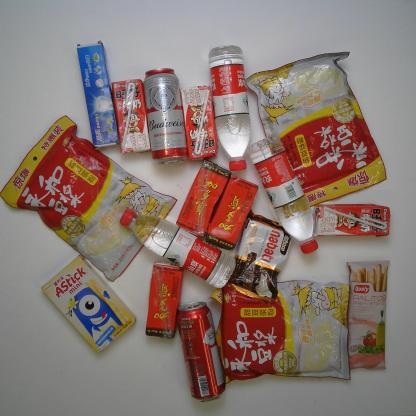Alcohol: (175, 300, 227, 402), (142, 66, 188, 165)
Dessert: (41, 255, 136, 355), (227, 209, 293, 304), (344, 258, 390, 370)
Drink: (119, 208, 236, 290), (248, 135, 321, 254), (208, 46, 252, 172), (175, 158, 232, 238), (204, 175, 260, 251), (144, 262, 184, 339)
Instant Drink: (0, 115, 178, 284), (245, 52, 388, 207), (208, 276, 353, 383)
Milk: (110, 79, 152, 155), (180, 85, 218, 160), (314, 202, 392, 238)
Personal Hygiene: (76, 38, 119, 148)
